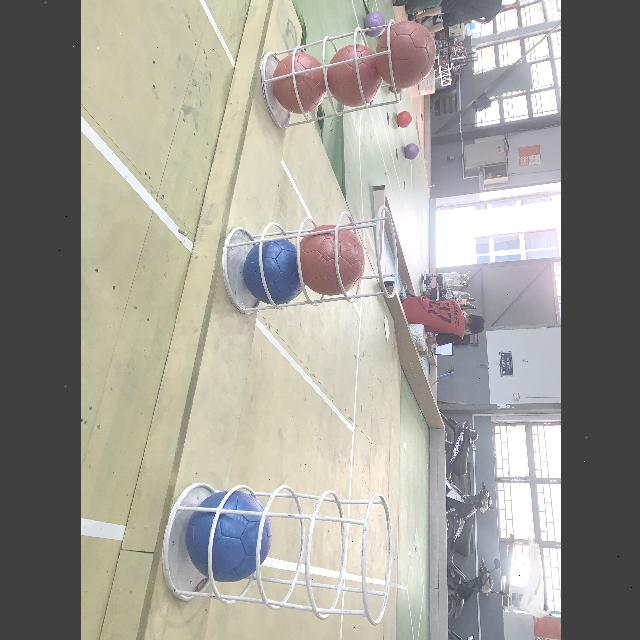B: (184, 492, 272, 582), (245, 239, 301, 305)
R: (299, 223, 365, 295), (376, 20, 436, 86), (270, 52, 328, 115), (326, 43, 382, 107)
